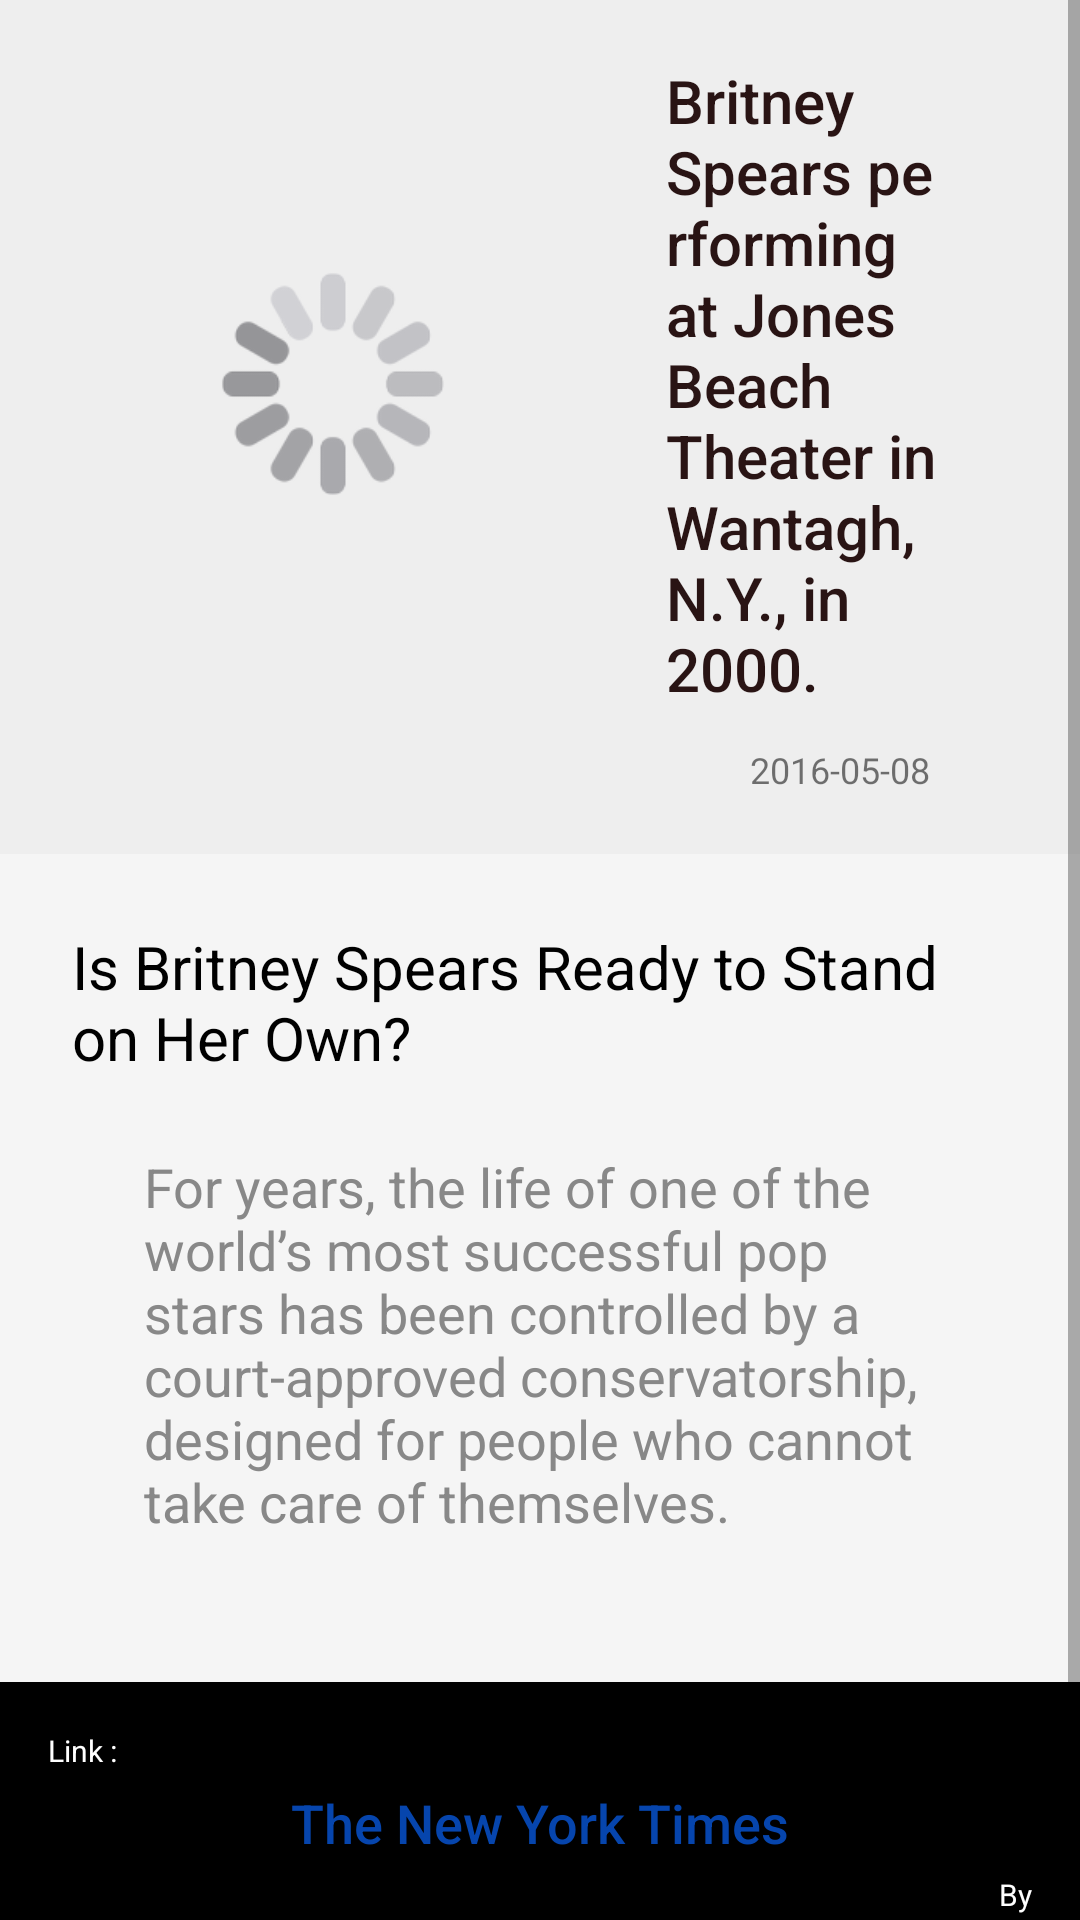

Where icons sit on this 1080 x 1920 app screen, as (x1, y1, x2, y2):
loading: (222, 274, 443, 495)
